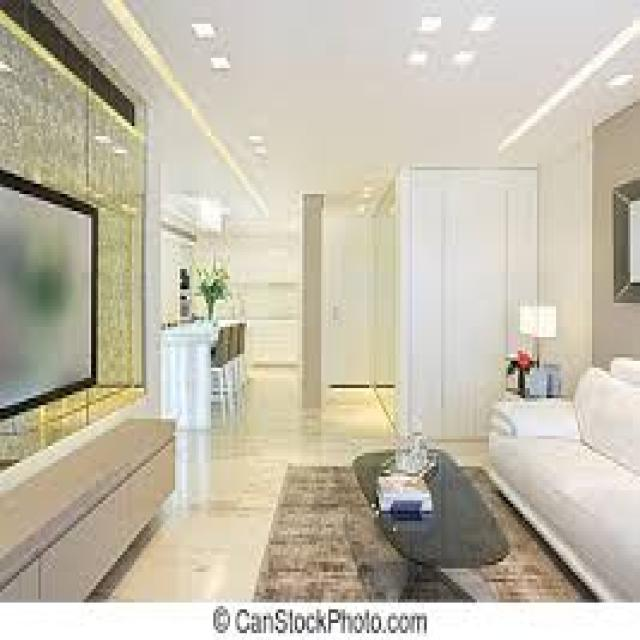Chair: (207, 323, 252, 373)
Lamp: (522, 288, 556, 374)
Sofa: (498, 363, 640, 596)
Table: (358, 438, 506, 593)
